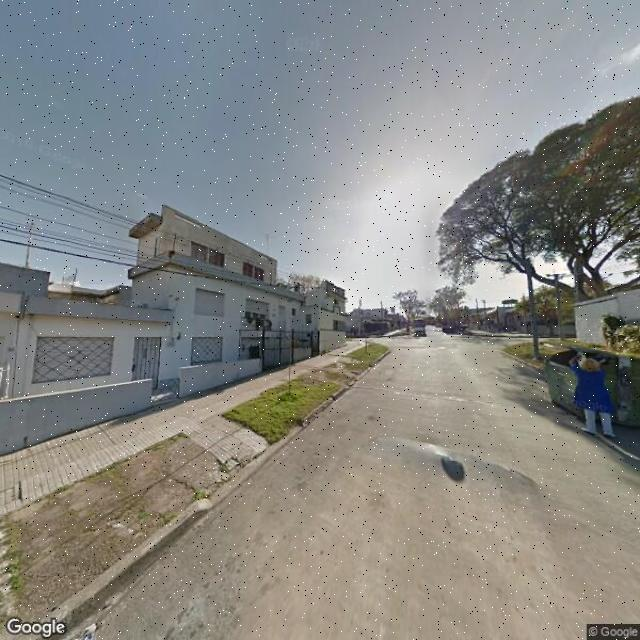garbage container: (537, 335, 640, 450)
